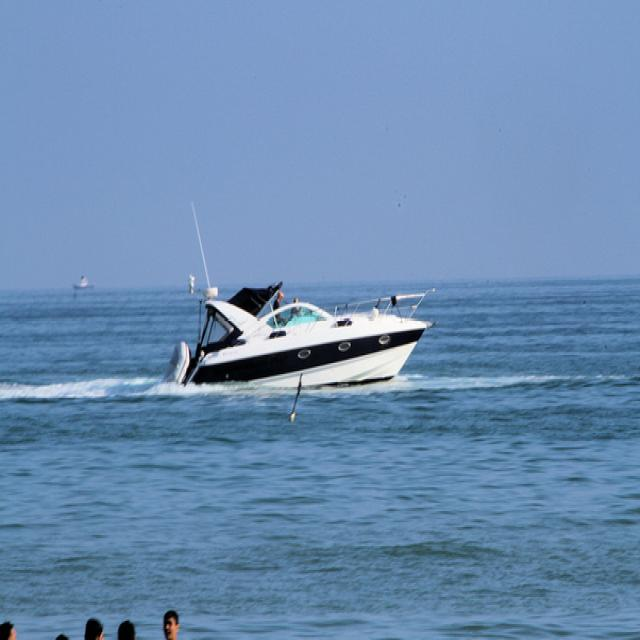houseboat: (164, 235, 427, 405), (71, 266, 96, 302)
